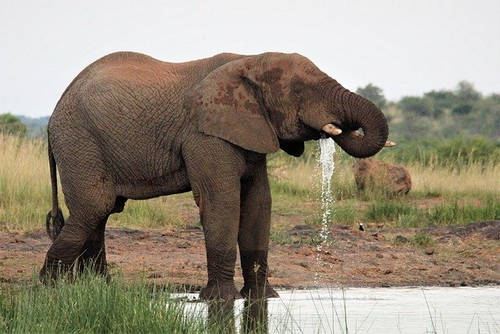elephant: (41, 50, 389, 303)
